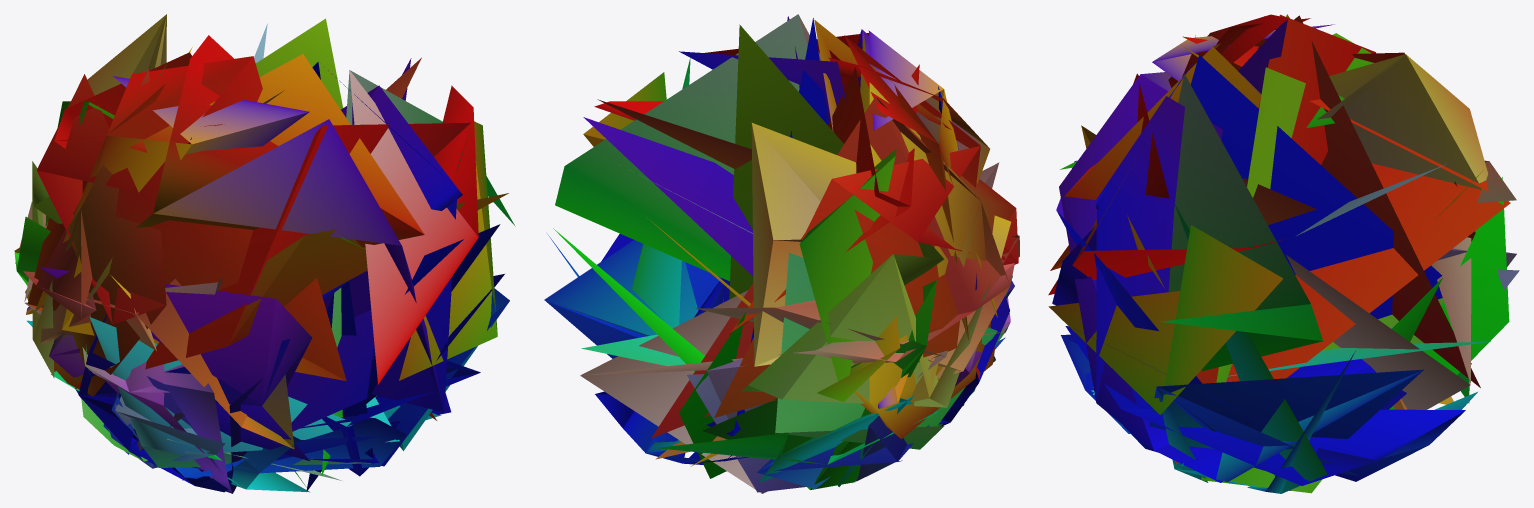
The model's file is zeometry-fragments-ruins-shard-cluster_v9.fbx.
3 views of the same model, side by side, from view 1: azimuth 30°, elevation 25°; view 2: azimuth 150°, elevation 25°; view 3: azimuth 270°, elevation 25° (orthographic). The views are drawn at different scales.
Visible parts, largest first — view 1: Shard Cluster_v9; view 2: Shard Cluster_v9; view 3: Shard Cluster_v9.
Boxes of the visible parts, x1,y1,x2,y2 form: Shard Cluster_v9: (14,14,515,493); Shard Cluster_v9: (544,14,1019,493); Shard Cluster_v9: (1048,14,1519,493).
Size of the model in its own units: 0.5 by 0.4942 by 0.4954.
